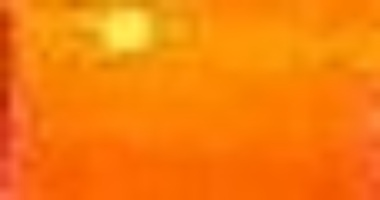Hotspot: (85, 3, 155, 52)
